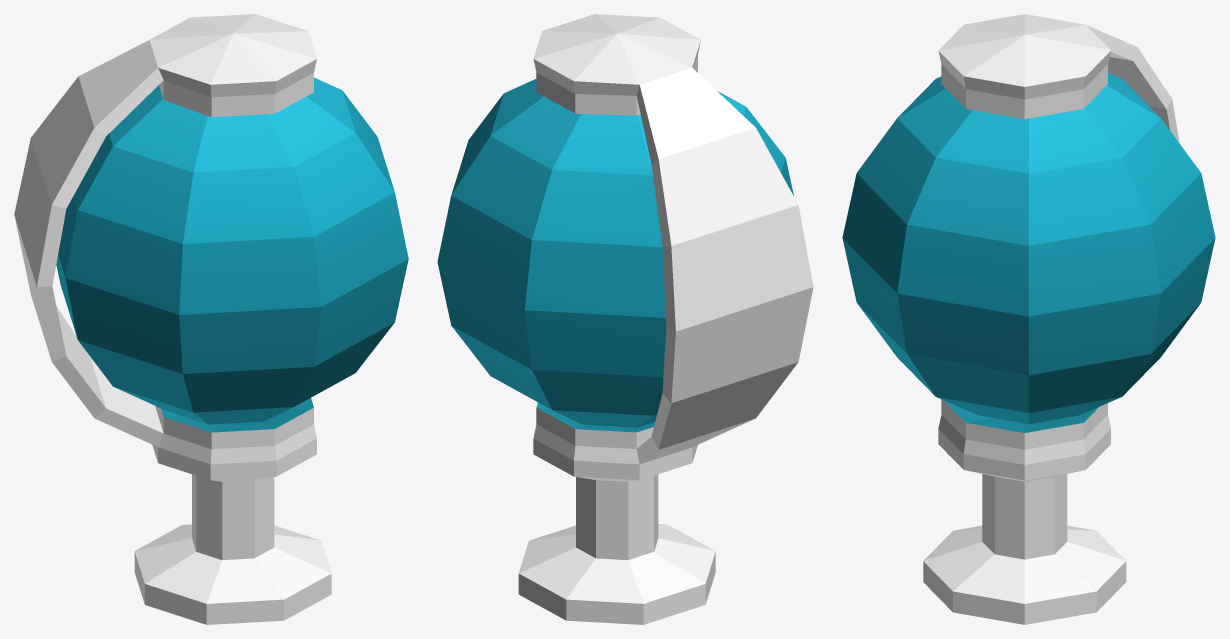
File: globo.fbx
3 renders of one model, left to right at view 1: azimuth 30°, elevation 25°; view 2: azimuth 150°, elevation 25°; view 3: azimuth 270°, elevation 25°, orthographic.
Parts seen in each view (by area): view 1: Sphere; view 2: Sphere; view 3: Sphere.
Part boxes in pixels (<box>): Sphere: <box>14,14,408,624</box>; Sphere: <box>437,14,813,624</box>; Sphere: <box>842,14,1215,624</box>.
Bounding box in the file's own units: 219 × 324 × 200.
